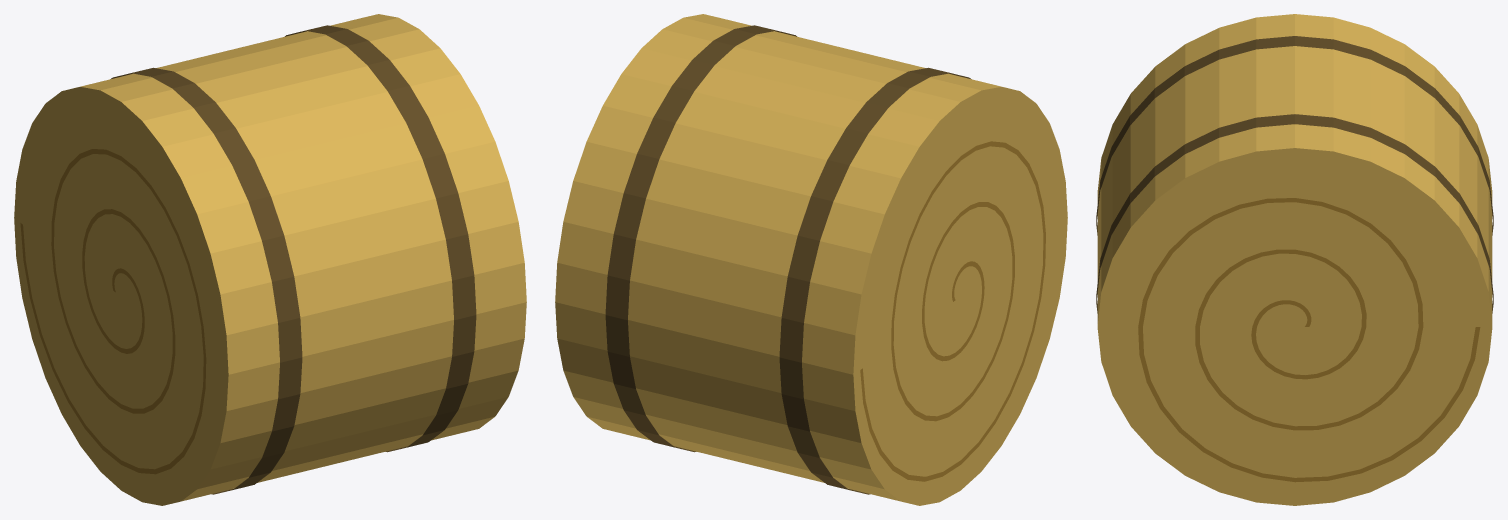
The model's file is hay.glb.
3 renders of one model, left to right at view 1: azimuth 30°, elevation 25°; view 2: azimuth 150°, elevation 25°; view 3: azimuth 270°, elevation 25°, orthographic. The views are drawn at different scales.
Visible parts, largest first — view 1: body; view 2: body; view 3: body.
Boxes of the visible parts, bbox=[...] form: body: bbox=[14, 14, 526, 505]; body: bbox=[555, 14, 1067, 505]; body: bbox=[1096, 14, 1493, 505].
Size of the model in its own units: 1.2 by 1.5 by 1.5.
